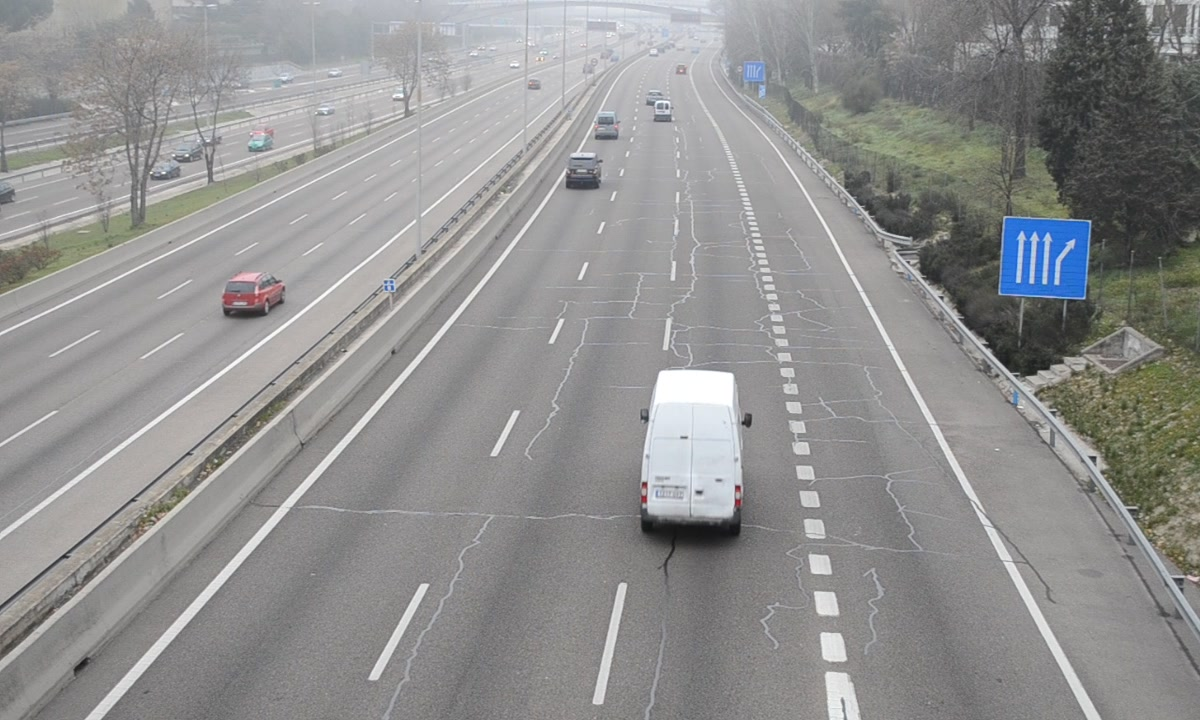car: (566, 151, 603, 190)
van: (639, 372, 744, 533), (594, 109, 620, 140)
